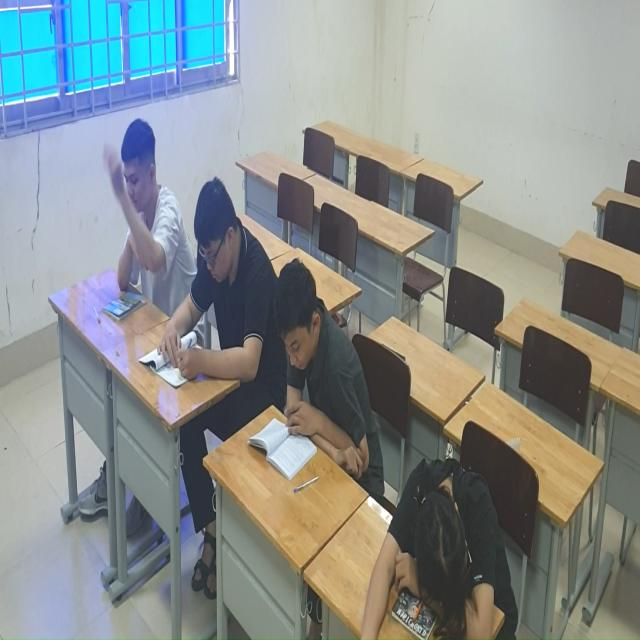raise_hand: (98, 103, 170, 325)
read: (138, 179, 272, 396), (244, 253, 363, 491)
sleep: (354, 446, 510, 640)
